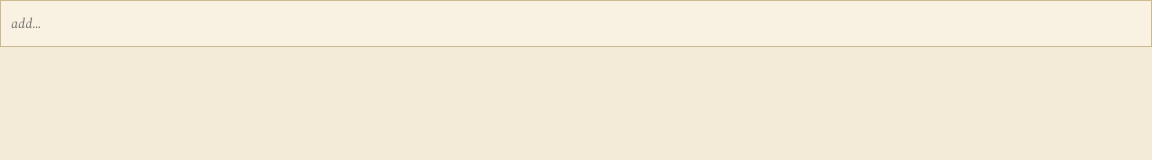
ChipField filtering › offers to commit typed text when the vocabulary is open
Type "Nobody" into the dropdown named "Allies" at (576, 24), box x1=11 y1=8 x2=1141 y2=39
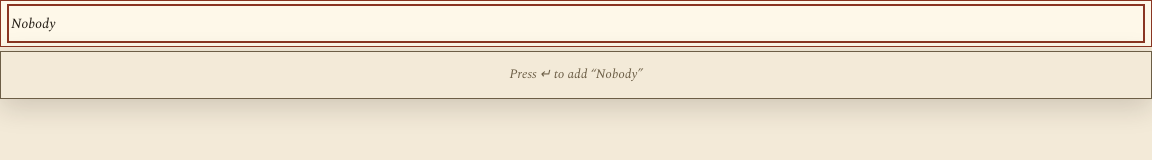
expect no options are shown: met
expect the list reads "Press ↵ to add “Nobody”": met, box x1=509 y1=64 x2=643 y2=84
